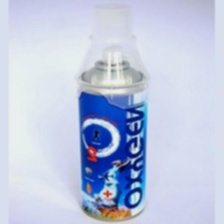aerosol_cans: (74, 42, 151, 224)
